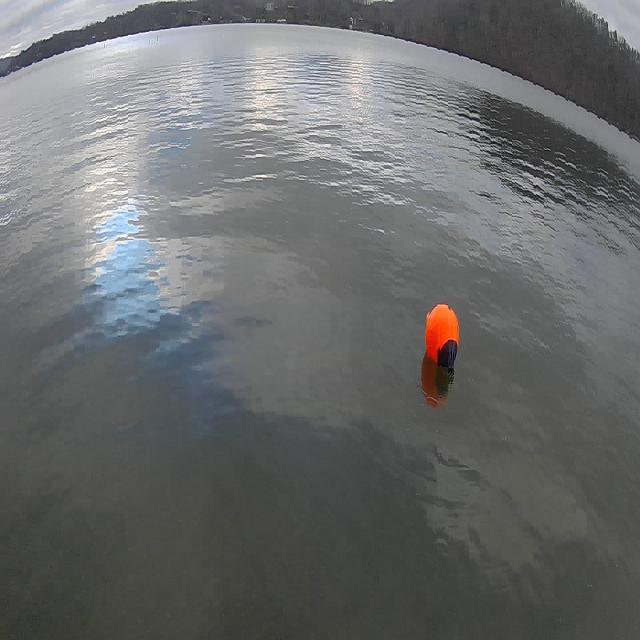Buoy: (420, 297, 465, 378)
